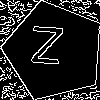Z: (29, 26, 64, 74)
